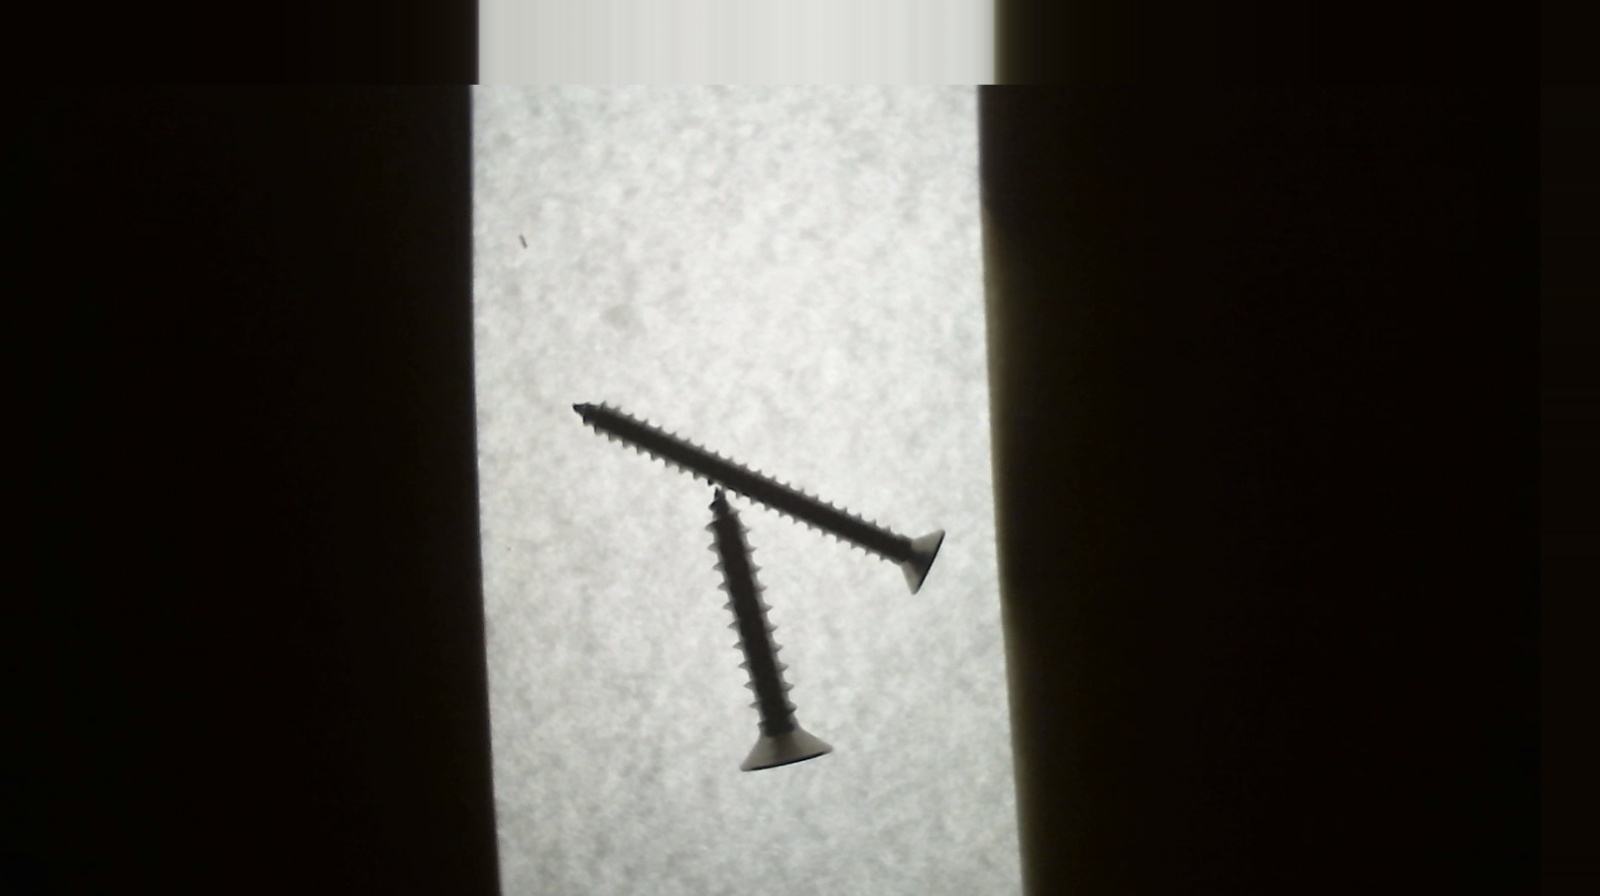S001: (695, 482, 836, 776)
S002: (569, 396, 952, 597)
